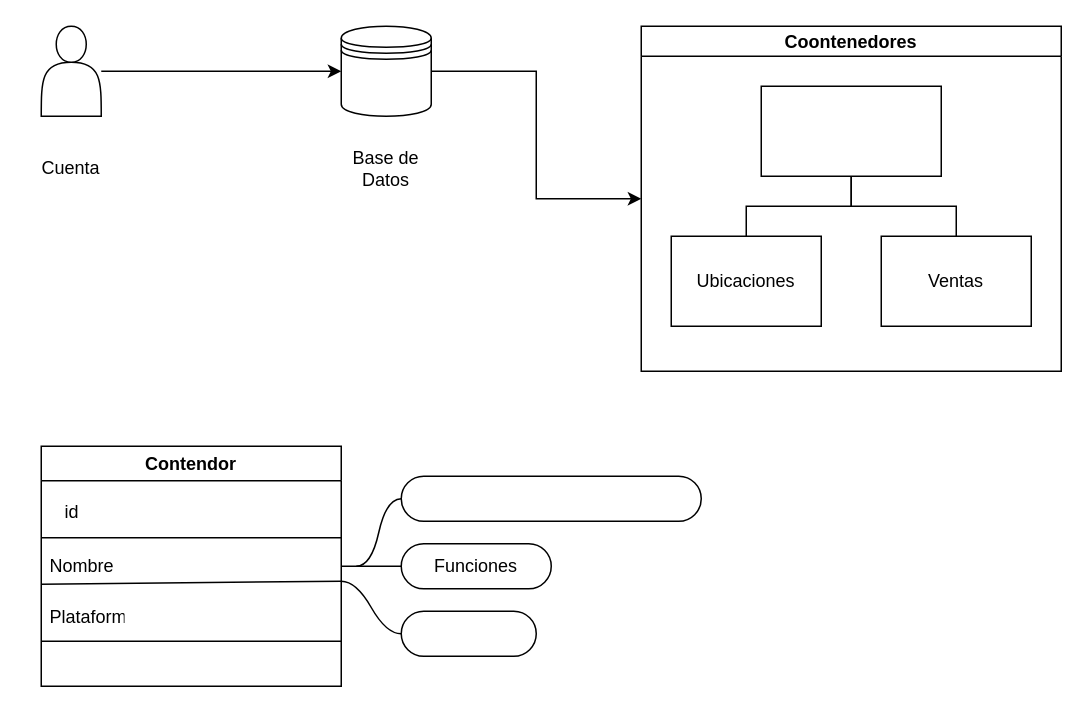
This 1088x713 diagram has some shape labels left out. Here are the shapes that lost their labels. From the top down, the centre of each, then its label:
At point (850, 130): "VideoJuegos".
At point (550, 498): "Procedimientos Almacenados".
At point (468, 633): "Triggers".
